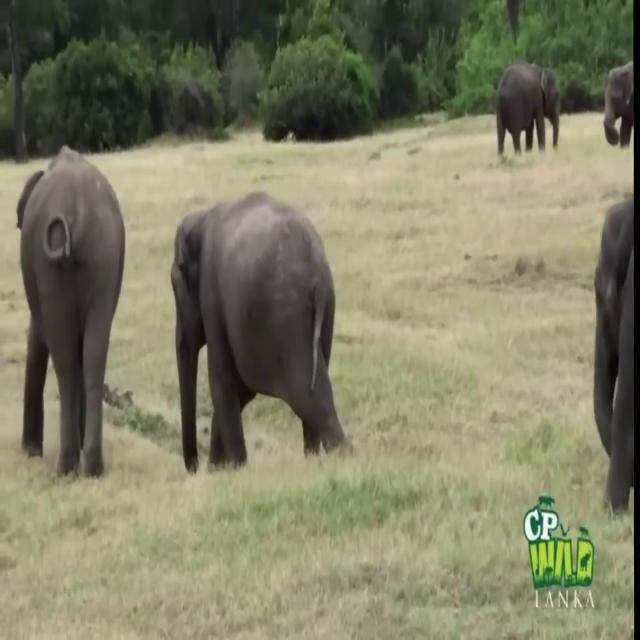Elephant: (170, 189, 354, 474), (15, 143, 125, 478), (593, 196, 634, 516), (496, 60, 560, 156), (603, 60, 633, 148)
